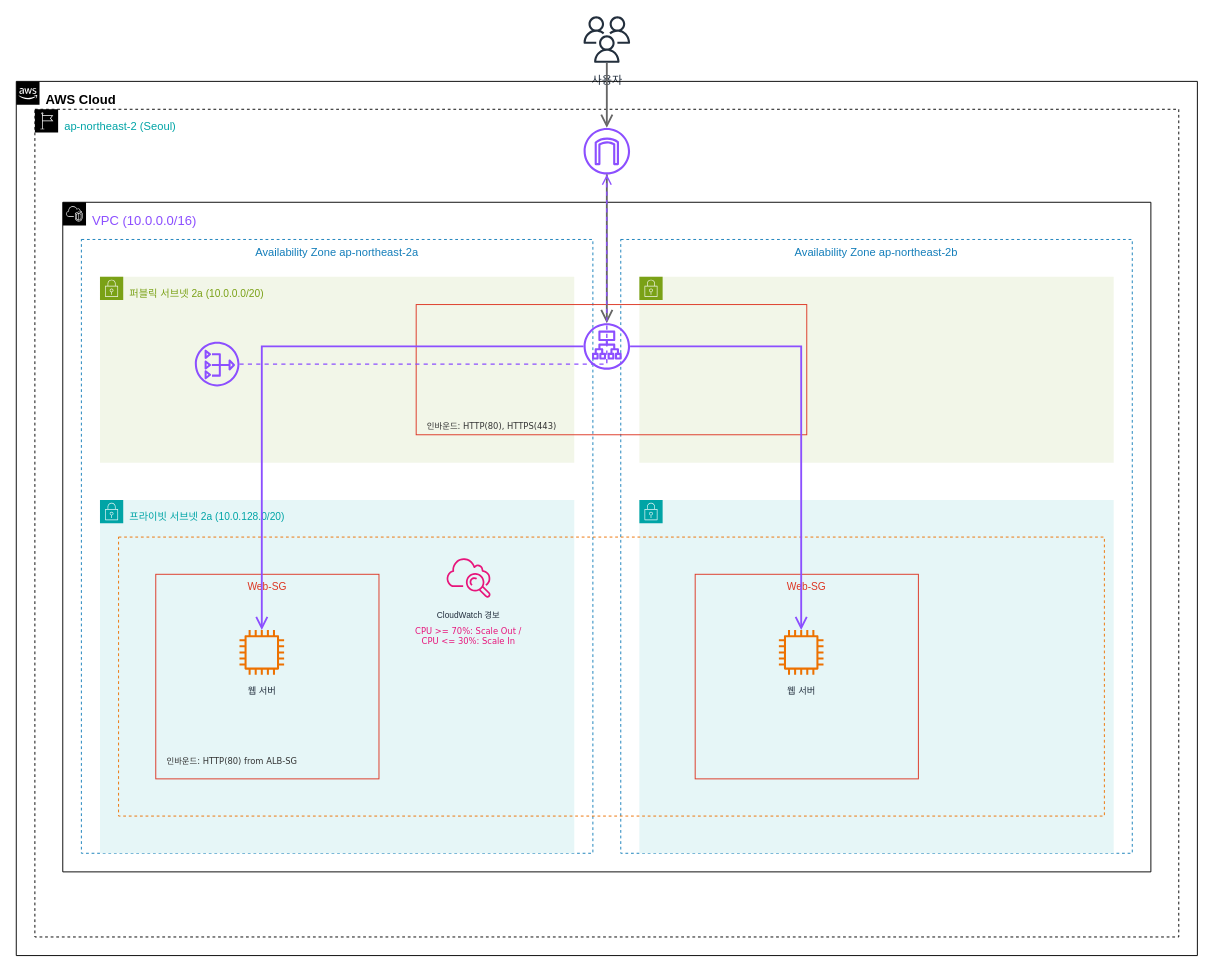
This 1214x972 diagram has some shape labels left out. Each missing label, with the box of its shape:
ALB-SG: (415, 304, 807, 435)
Application Load Balancer: (583, 323, 630, 369)
Auto Scaling 그룹 (최소:2, 최대:4, 희망:2): (118, 536, 1104, 816)
NAT 게이트웨이: (194, 341, 239, 386)
인터넷 게이트웨이: (583, 127, 630, 174)
퍼블릭 서브넷 2b (10.0.16.0/20): (638, 276, 1114, 463)
프라이빗 서브넷 2b (10.0.144.0/20): (638, 499, 1114, 853)
